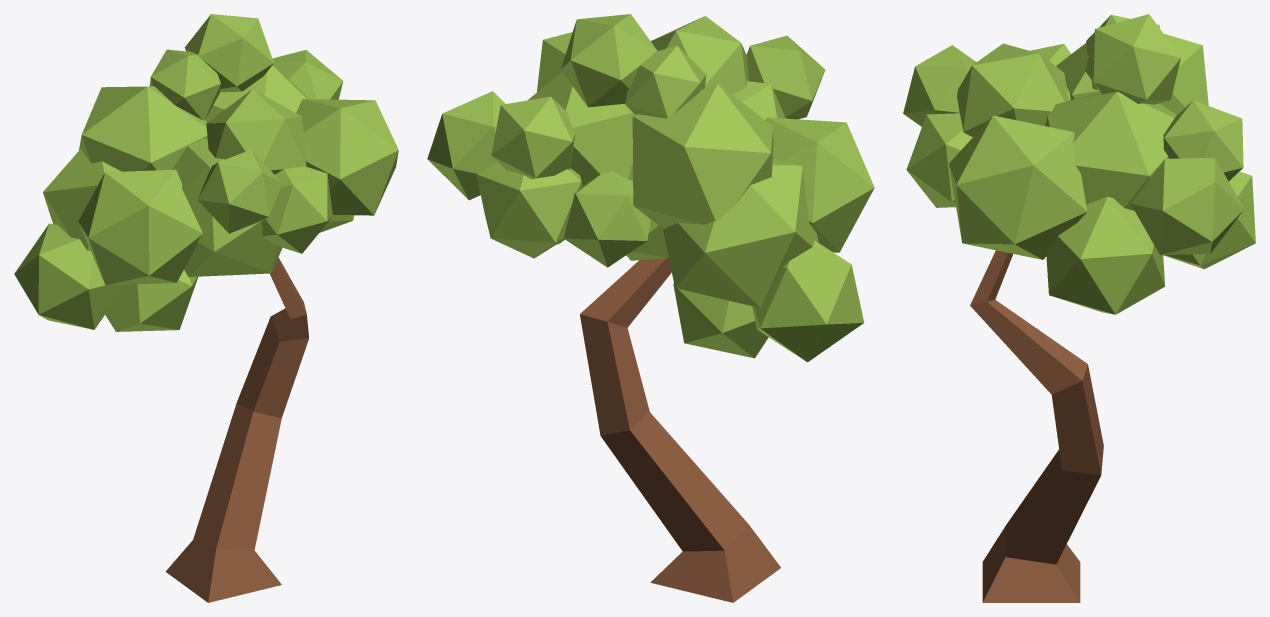
File: Oak7.fbx
The picture shows the model from 3 angles, left to right: view 1: azimuth 30°, elevation 25°; view 2: azimuth 150°, elevation 25°; view 3: azimuth 270°, elevation 25°; orthographic projection. The views are drawn at different scales.
Parts seen in each view (by area): view 1: MyObject.007; view 2: MyObject.007; view 3: MyObject.007.
Part boxes in pixels (bbox=[...]): MyObject.007: bbox=[14, 14, 398, 602]; MyObject.007: bbox=[427, 14, 874, 602]; MyObject.007: bbox=[903, 14, 1255, 602].
Size of the model in its own units: 429 by 631 by 342.
1 material, 1 textured.
